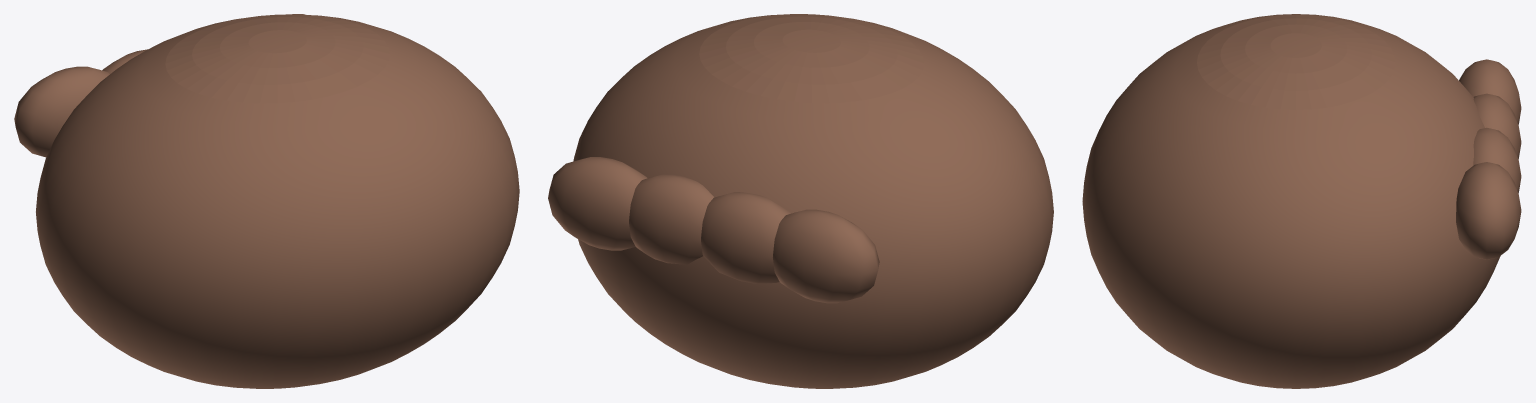
Rendered from Hair_Short.fbx.
3 renders of one model, left to right at view 1: azimuth 30°, elevation 25°; view 2: azimuth 150°, elevation 25°; view 3: azimuth 270°, elevation 25°, orthographic. The views are drawn at different scales.
Parts seen in each view (by area): view 1: Hair, Hair_Bang.003; view 2: Hair, Hair_Bang.003, Hair_Bang, Hair_Bang.002, Hair_Bang.001; view 3: Hair, Hair_Bang, Hair_Bang.003, Hair_Bang.001, Hair_Bang.002.
Boxes of the visible parts, x1,y1,x2,y2 form: Hair: (36,14,519,388); Hair_Bang.003: (14,66,109,157); Hair: (573,14,1053,388); Hair_Bang.003: (773,209,879,303); Hair_Bang: (548,157,647,250); Hair_Bang.002: (701,192,791,283); Hair_Bang.001: (629,174,714,264); Hair: (1082,14,1500,388); Hair_Bang: (1456,162,1521,259); Hair_Bang.003: (1459,59,1521,124); Hair_Bang.001: (1473,127,1521,193); Hair_Bang.002: (1473,93,1521,159).
Bounding box in the file's own units: 84 × 60 × 76.
